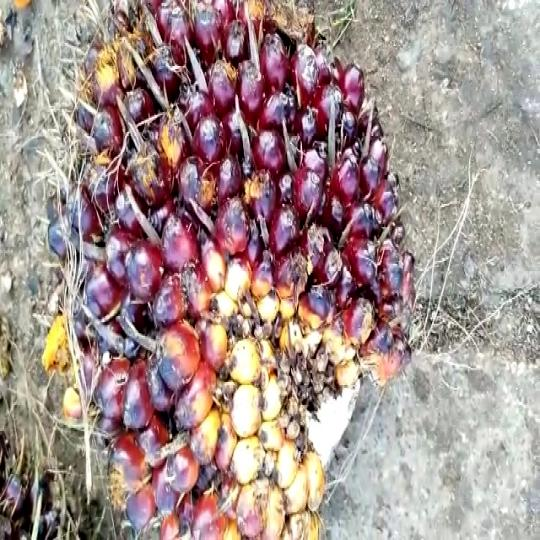kurang masak: (47, 4, 401, 540)
